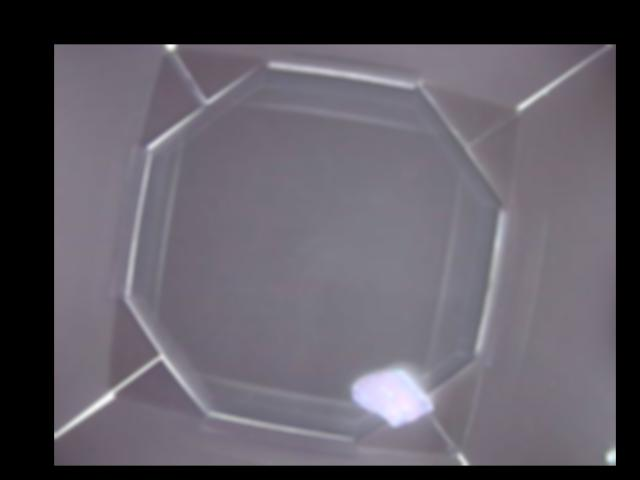China: (354, 365, 438, 427)
